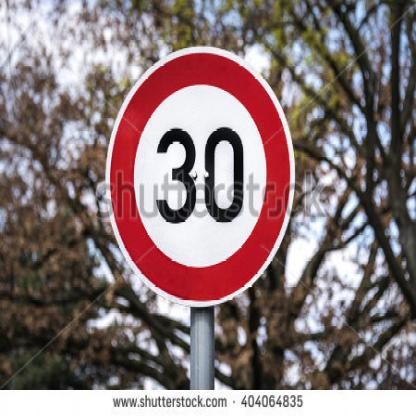Speed Limit 30: (110, 49, 292, 303)
